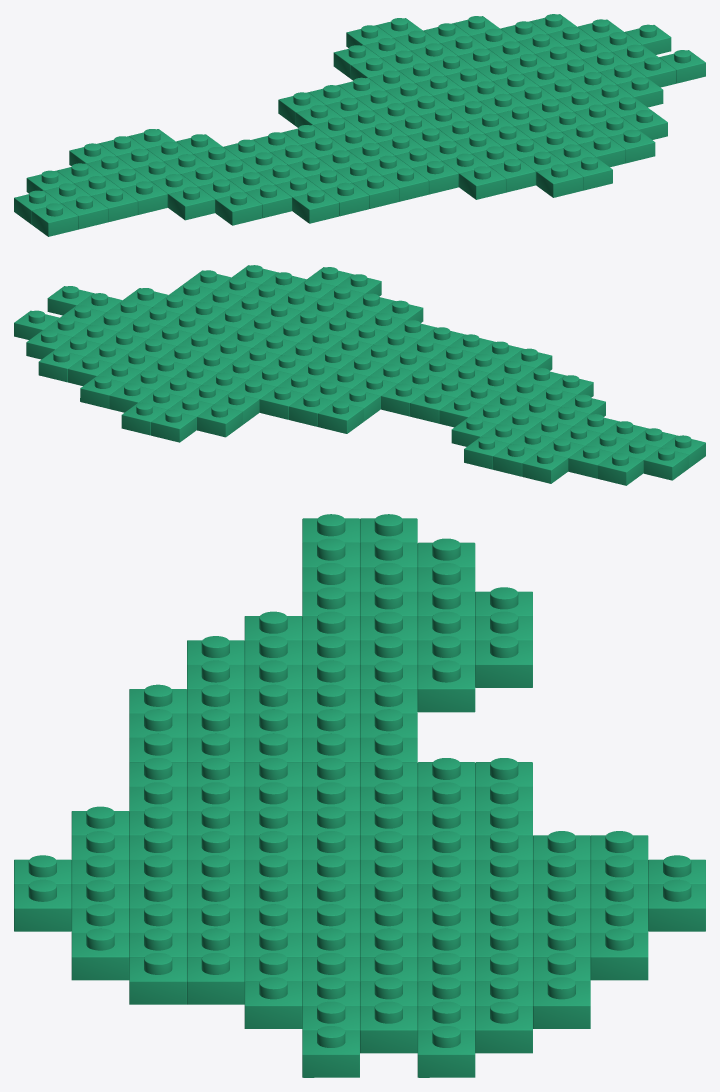
File: Venezuela.fbx
The picture shows the model from 3 angles, top to bottom: view 1: azimuth 30°, elevation 25°; view 2: azimuth 150°, elevation 25°; view 3: azimuth 270°, elevation 25°; orthographic projection. The views are drawn at different scales.
Visible parts, largest first — view 1: Cylinder_88; view 2: Cylinder_88; view 3: Cylinder_88.
Boxes of the visible parts, x1,y1,x2,y2 form: Cylinder_88: (14, 14, 705, 236); Cylinder_88: (14, 265, 705, 485); Cylinder_88: (14, 514, 705, 1077).
Size of the model in its own units: 2200 by 65.03 by 1200.
